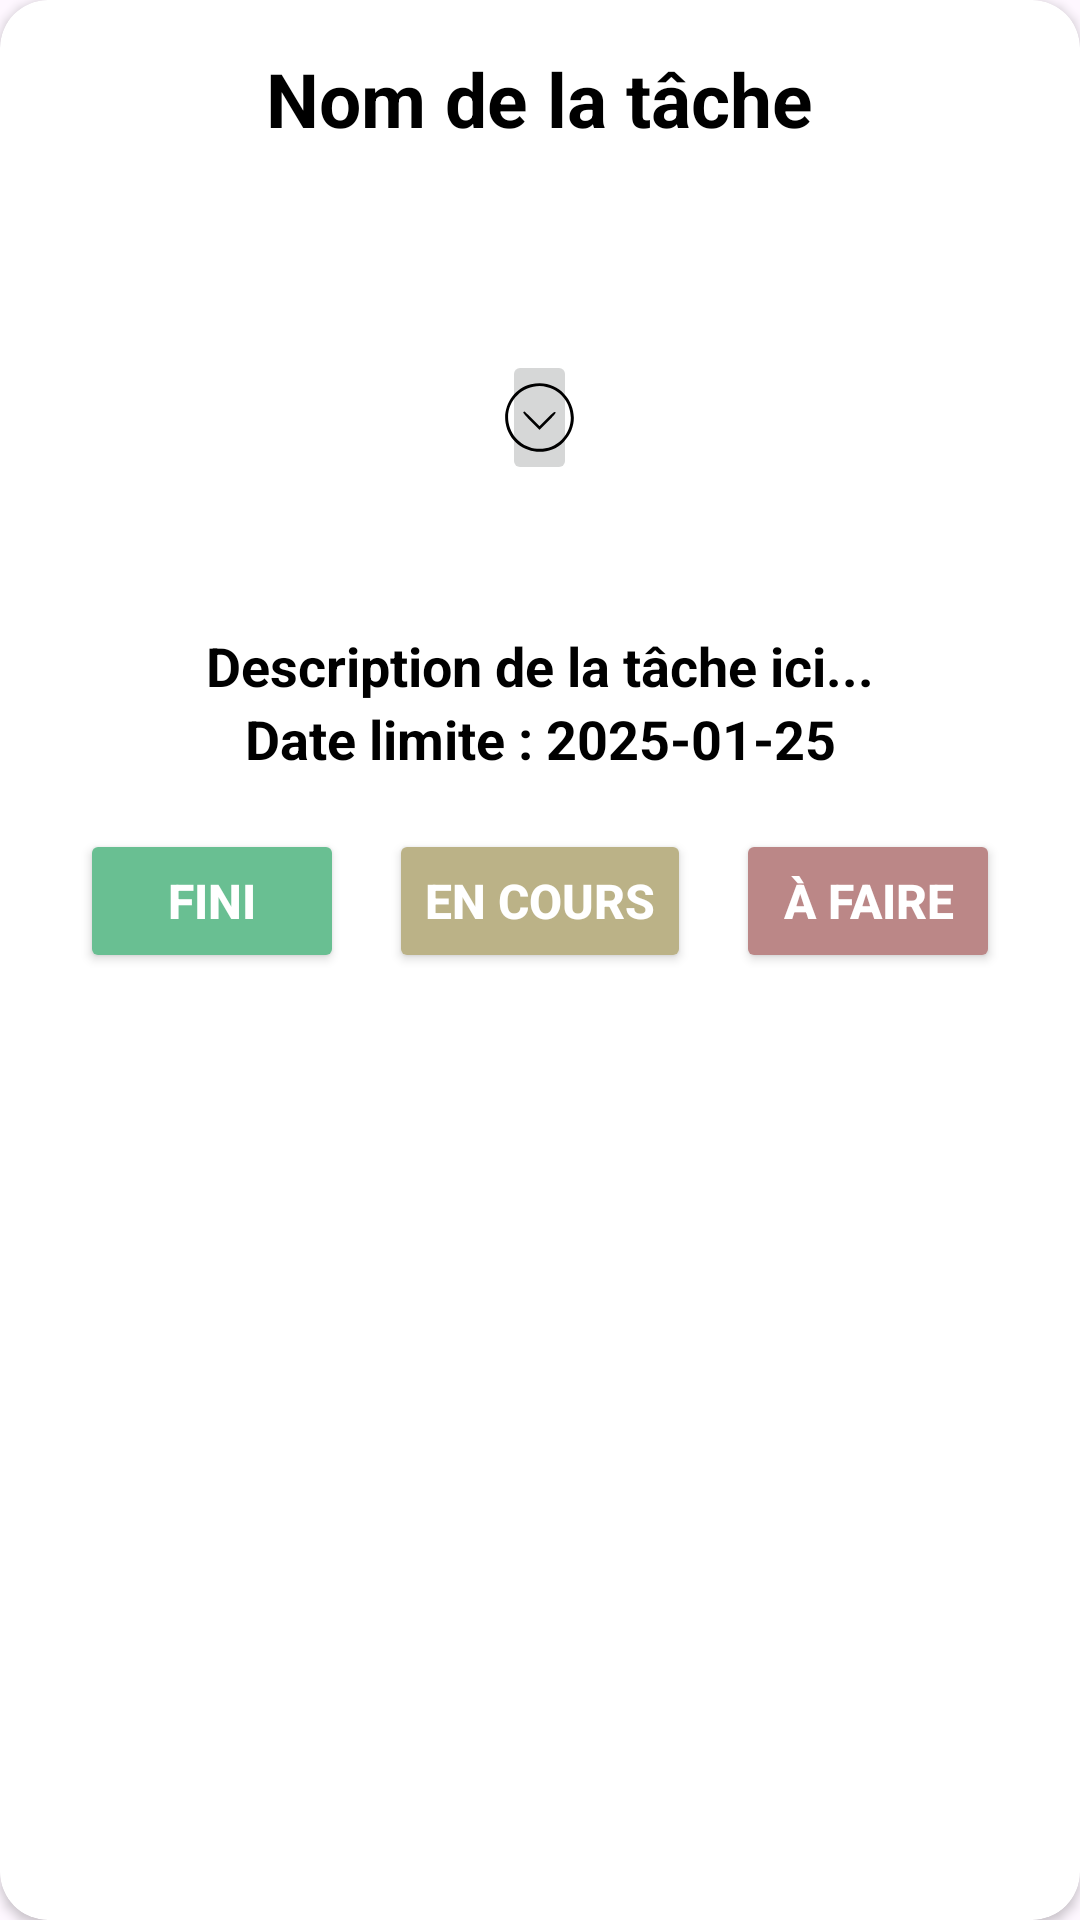

Icons on this 1080×1920 Android screen, each with the point to tap as point (x, y):
down: point (539, 417)
